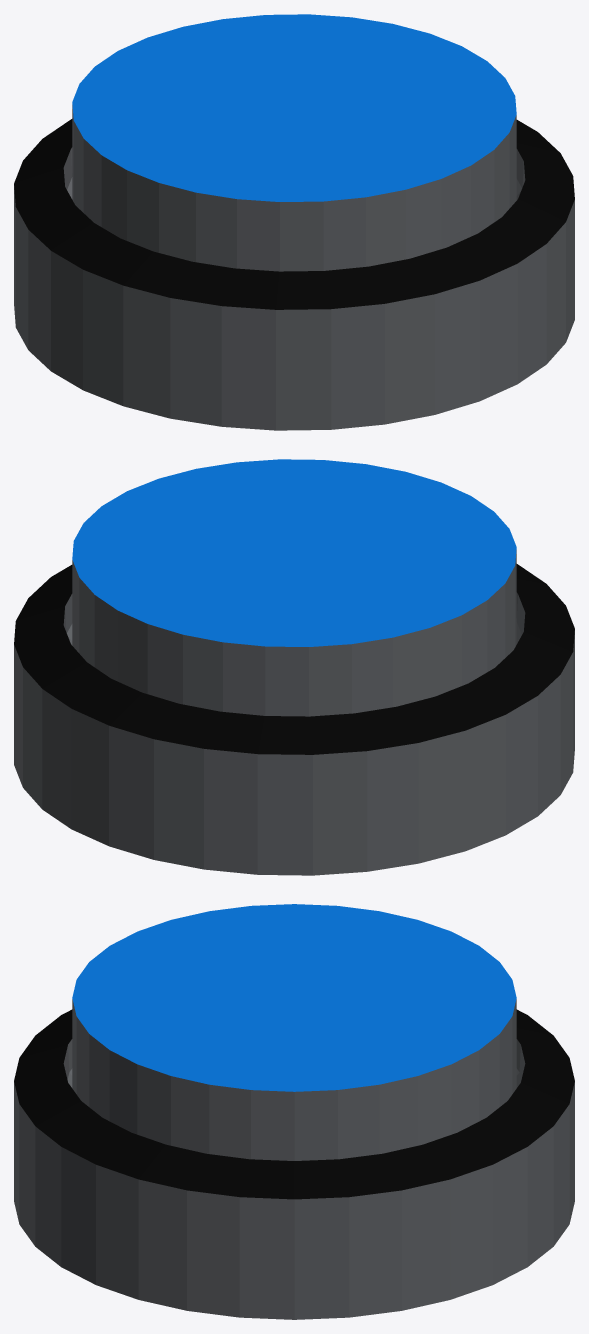
3 views of the same model, one above another, from view 1: azimuth 30°, elevation 25°; view 2: azimuth 150°, elevation 25°; view 3: azimuth 270°, elevation 25° (orthographic).
Parts seen in each view (by area): view 1: Circle; view 2: Circle; view 3: Circle.
Part boxes in pixels (x1,y1,x2,y2): Circle: [14, 14, 574, 430]; Circle: [14, 459, 574, 875]; Circle: [14, 904, 574, 1319].
Bounding box in the file's own units: 200 × 80.02 × 200.
